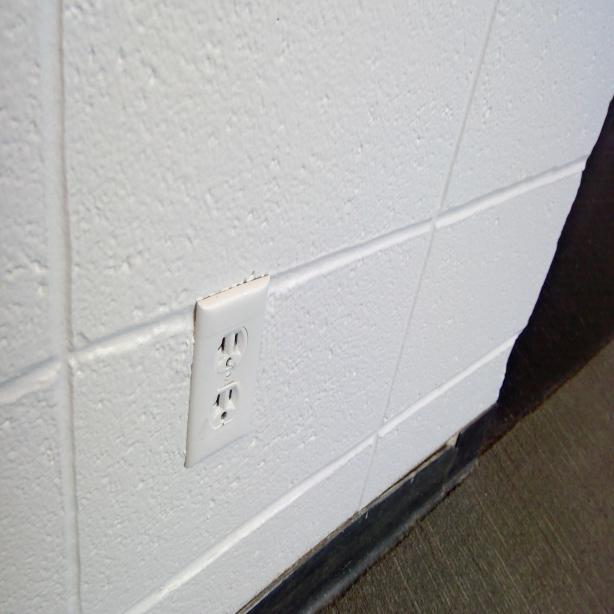typeb: (214, 324, 243, 373), (212, 388, 236, 425)
